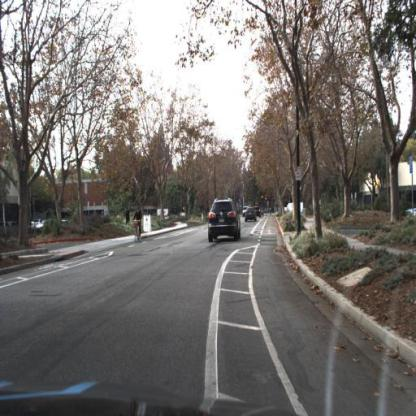biker: (132, 206, 144, 242), (135, 209, 143, 248)
car: (205, 197, 243, 247), (245, 206, 259, 224), (256, 207, 261, 220)
pedestrian: (125, 209, 131, 225), (167, 212, 172, 221)
